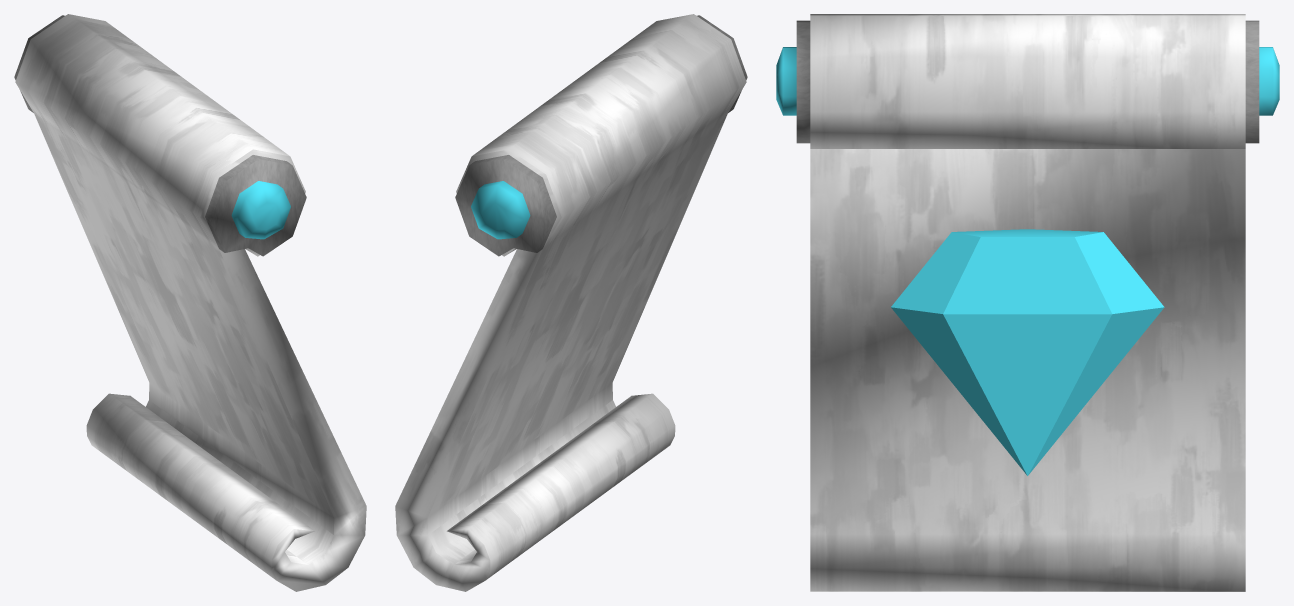
Rendered from item_recipe_gem_diamond.fbx.
The picture shows the model from 3 angles, left to right: view 1: azimuth 30°, elevation 25°; view 2: azimuth 150°, elevation 25°; view 3: azimuth 270°, elevation 25°; orthographic projection. The views are drawn at different scales.
Parts seen in each view (by area): view 1: Diamond; view 2: Diamond; view 3: Diamond.
Part boxes in pixels (box(x1,y1,x2,y2)): Diamond: box(14, 14, 366, 591); Diamond: box(395, 14, 747, 591); Diamond: box(776, 14, 1279, 591).
Size of the model in its own units: 83.18 by 216 by 185.
4 materials, 2 textured.
